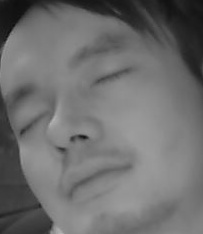blink: (16, 111, 53, 136), (92, 65, 128, 90)
mouth: (59, 154, 134, 203)
